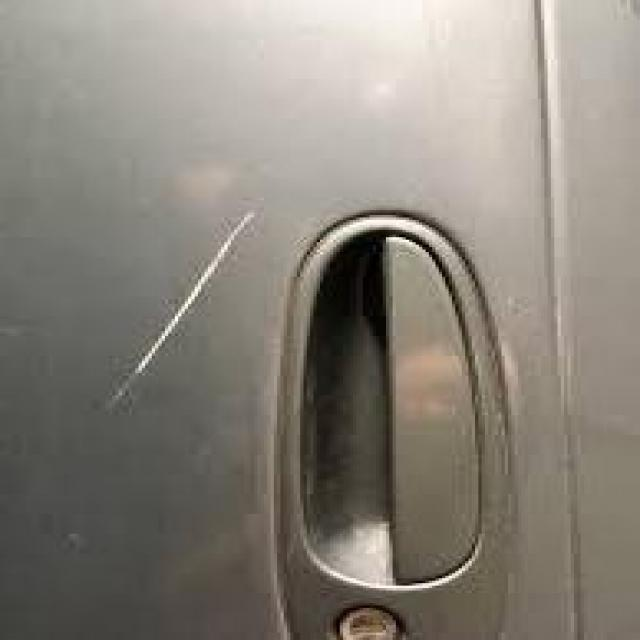scratch: (82, 182, 300, 428)
